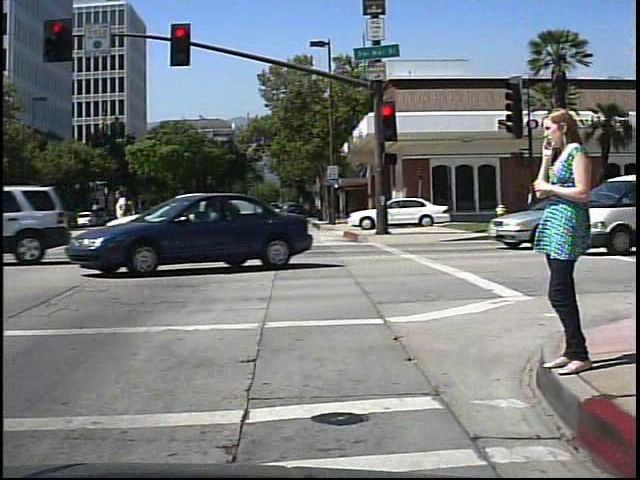person: (530, 98, 595, 385)
